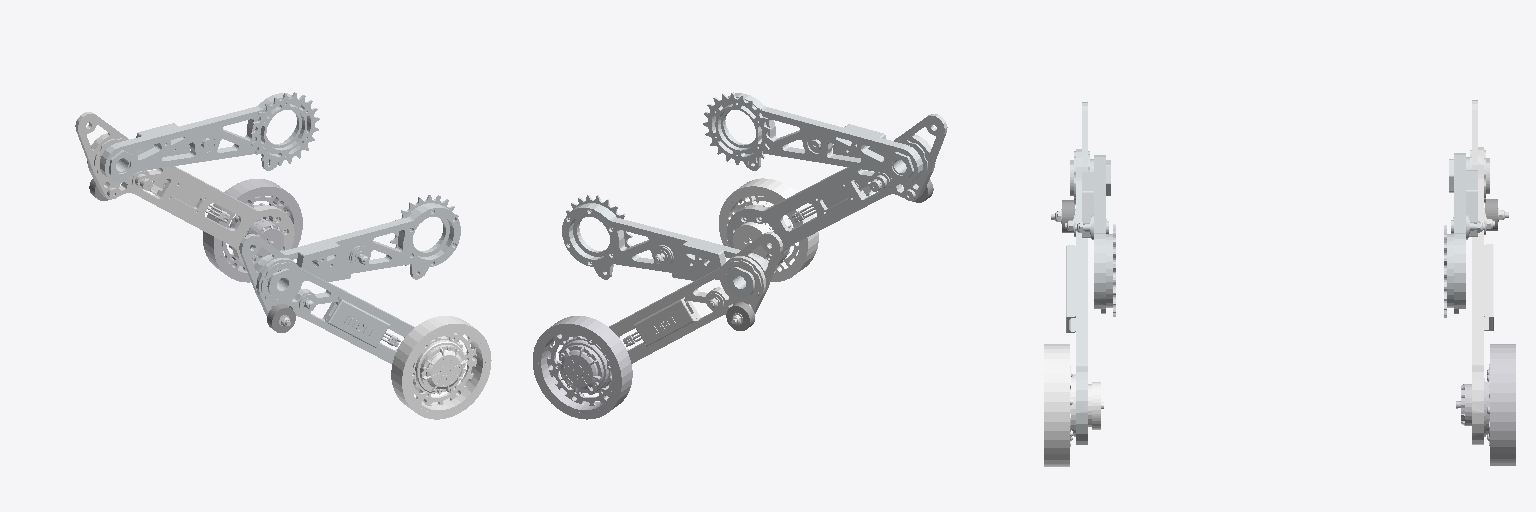
robot.urdf — wheelbipe25_v3_serial:
<?xml version="1.0" encoding="utf-8"?>
<!-- This URDF was automatically created by SolidWorks to URDF Exporter! Originally created by [author] ([email redacted]) 
     Commit Version: 1.6.0-4-g7f85cfe  Build Version: 1.6.7995.38578
     For more information, please see http://wiki.ros.org/sw_urdf_exporter -->
<robot
  name="wheelbipe25_v3_serial">
  <link
    name="base_link">
    <inertial>
      <origin
        xyz="0.0034036 0.0054441 0.026919"
        rpy="0 0 0" />
      <mass
        value="13.643" />
      <inertia
        ixx="0.017406"
        ixy="-3.2184E-05"
        ixz="9.9775E-05"
        iyy="0.023837"
        iyz="-3.6499E-05"
        izz="0.027425" />
    </inertial>
    <visual>
      <origin
        xyz="0 0 0"
        rpy="0 0 0" />
      <geometry>
        <mesh
          filename="../meshes/base_link.STL" />
      </geometry>
      <material
        name="meshes">
        <color
          rgba="0.89804 0.91765 0.92941 1" />
      </material>
    </visual>
    <collision>
      <origin
        xyz="0 0 0"
        rpy="0 0 0" />
      <geometry>
        <mesh
          filename="../meshes/base_link.STL" />
      </geometry>
    </collision>
  </link>
  <link
    name="right_rear1_link">
    <inertial>
      <origin
        xyz="-0.106332358569984 0.00449073612655324 0.000587428254207184"
        rpy="0 0 0" />
      <mass
        value="0.440861538976495" />
      <inertia
        ixx="0.00013606702501468"
        ixy="-1.8284202125824E-06"
        ixz="3.9850306052404E-05"
        iyy="0.00157904378159859"
        iyz="6.78386550844152E-07"
        izz="0.00146970958664005" />
    </inertial>
    <visual>
      <origin
        xyz="0 0 0"
        rpy="0 0 0" />
      <geometry>
        <mesh
          filename="../meshes/right_rear1_link.STL" />
      </geometry>
      <material
        name="meshes">
        <color
          rgba="0.898039215686275 0.917647058823529 0.929411764705882 1" />
      </material>
    </visual>
    <collision>
      <origin
        xyz="0 0 0"
        rpy="0 0 0" />
      <geometry>
        <mesh
          filename="../meshes/right_rear1_link.STL" />
      </geometry>
    </collision>
  </link>
  <joint
    name="right_rear1_joint"
    type="continuous">
    <origin
      xyz="0 -0.1815 0"
      rpy="0 0 0" />
    <parent
      link="base_link" />
    <child
      link="right_rear1_link" />
    <axis
      xyz="0 1 0" />
    <limit
      lower="-3.14"
      upper="3.14"
      effort="100"
      velocity="10.472" />
  </joint>
  <link
    name="right_rear2_link">
    <inertial>
      <origin
        xyz="0.066508391458269 0.00560212356936299 -0.0524670454642925"
        rpy="0 0 0" />
      <mass
        value="0.368980583372402" />
      <inertia
        ixx="0.000743510115183567"
        ixy="2.042352636913E-06"
        ixz="0.000873915415294323"
        iyy="0.00203748603022411"
        iyz="-2.27059882901144E-06"
        izz="0.00130960050813623" />
    </inertial>
    <visual>
      <origin
        xyz="0 0 0"
        rpy="0 0 0" />
      <geometry>
        <mesh
          filename="../meshes/right_rear2_link.STL" />
      </geometry>
      <material
        name="meshes">
        <color
          rgba="0.898039215686275 0.917647058823529 0.929411764705882 1" />
      </material>
    </visual>
    <collision>
      <origin
        xyz="0 0 0"
        rpy="0 0 0" />
      <geometry>
        <mesh
          filename="../meshes/right_rear2_link.STL" />
      </geometry>
    </collision>
  </link>
  <joint
    name="right_rear2_joint"
    type="continuous">
    <origin
      xyz="-0.215 -0.018 0"
      rpy="0 0 0" />
    <parent
      link="right_rear1_link" />
    <child
      link="right_rear2_link" />
    <axis
      xyz="0 1 0" />
    <limit
      lower="-0.05"
      upper="1.05"
      effort="100"
      velocity="10.472" />
  </joint>
  <link
    name="right_wheel_link">
    <inertial>
      <origin
        xyz="0.000103763358342947 -0.0128472471862931 -1.11657618750566E-05"
        rpy="0 0 0" />
      <mass
        value="0.30975471454974" />
      <inertia
        ixx="0.000310431420126189"
        ixy="-2.36933762728286E-07"
        ixz="-1.47747496489338E-07"
        iyy="0.00057172389890395"
        iyz="4.75962238533741E-08"
        izz="0.000309708769125021" />
    </inertial>
    <visual>
      <origin
        xyz="0 0 0"
        rpy="0 0 0" />
      <geometry>
        <mesh
          filename="../meshes/right_wheel_link.STL" />
      </geometry>
      <material
        name="meshes">
        <color
          rgba="1 1 1 1" />
      </material>
    </visual>
    <collision>
      <origin
        xyz="0 0 0"
        rpy="0 0 0" />
      <geometry>
        <mesh
          filename="../meshes/right_wheel_link.STL" />
      </geometry>
    </collision>
  </link>
  <joint
    name="right_wheel_joint"
    type="continuous">
    <origin
      xyz="0.20521 0 -0.14968"
      rpy="0 0 0" />
    <parent
      link="right_rear2_link" />
    <child
      link="right_wheel_link" />
    <axis
      xyz="0 1 0" />
    <limit
      effort="10"
      velocity="52.229" />
  </joint>
  <link
    name="right_guide_link">
    <inertial>
      <origin
        xyz="-3.7470027081099E-14 -0.00600000000000322 -3.04617442381527E-15"
        rpy="0 0 0" />
      <mass
        value="0.0125764237108507" />
      <inertia
        ixx="1.00611389686805E-06"
        ixy="-6.38296394211657E-21"
        ixz="-6.28359835949059E-24"
        iyy="1.71039362467569E-06"
        iyz="-1.46743087442761E-22"
        izz="1.00611389686805E-06" />
    </inertial>
    <visual>
      <origin
        xyz="0 0 0"
        rpy="0 0 0" />
      <geometry>
        <mesh
          filename="../meshes/right_guide_link.STL" />
      </geometry>
      <material
        name="">
        <color
          rgba="0.698039215686274 0.698039215686274 0.698039215686274 1" />
      </material>
    </visual>
    <collision>
      <origin
        xyz="0 0 0"
        rpy="0 0 0" />
      <geometry>
        <mesh
          filename="../meshes/right_guide_link.STL" />
      </geometry>
    </collision>
  </link>
  <joint
    name="right_guide_joint"
    type="continuous">
    <origin
      xyz="-0.0027114 -0.001 -0.042914"
      rpy="0 0 0" />
    <parent
      link="right_rear2_link" />
    <child
      link="right_guide_link" />
    <axis
      xyz="0 1 0" />
  </joint>
  <link
    name="left_rear1_link">
    <inertial>
      <origin
        xyz="-0.118948769058944 -0.00260857280121252 0.00163702474903421"
        rpy="0 0 0" />
      <mass
        value="0.503387901240631" />
      <inertia
        ixx="0.000147162398519791"
        ixy="1.83126777043379E-06"
        ixz="5.29091329257096E-05"
        iyy="0.0016093537379729"
        iyz="-7.00729956634731E-07"
        izz="0.00148939244123742" />
    </inertial>
    <visual>
      <origin
        xyz="0 0 0"
        rpy="0 0 0" />
      <geometry>
        <mesh
          filename="../meshes/left_rear1_link.STL" />
      </geometry>
      <material
        name="meshes">
        <color
          rgba="0.898039215686275 0.917647058823529 0.929411764705882 1" />
      </material>
    </visual>
    <collision>
      <origin
        xyz="0 0 0"
        rpy="0 0 0" />
      <geometry>
        <mesh
          filename="../meshes/left_rear1_link.STL" />
      </geometry>
    </collision>
  </link>
  <joint
    name="left_rear1_joint"
    type="continuous">
    <origin
      xyz="0 0.1815 0"
      rpy="0 0 0" />
    <parent
      link="base_link" />
    <child
      link="left_rear1_link" />
    <axis
      xyz="0 1 0" />
    <limit
      lower="-3.14"
      upper="3.14"
      effort="100"
      velocity="10.472" />
  </joint>
  <link
    name="left_rear2_link">
    <inertial>
      <origin
        xyz="0.0784434256851315 -0.00557737965492622 -0.0632978893850618"
        rpy="0 0 0" />
      <mass
        value="0.30901845038547" />
      <inertia
        ixx="0.000758358659747042"
        ixy="-2.05835508235229E-06"
        ixz="0.000881083293573335"
        iyy="0.00201539912780412"
        iyz="2.21626276459664E-06"
        izz="0.00127216692312921" />
    </inertial>
    <visual>
      <origin
        xyz="0 0 0"
        rpy="0 0 0" />
      <geometry>
        <mesh
          filename="../meshes/left_rear2_link.STL" />
      </geometry>
      <material
        name="meshes">
        <color
          rgba="0.929411764705882 0.929411764705882 0.929411764705882 1" />
      </material>
    </visual>
    <collision>
      <origin
        xyz="0 0 0"
        rpy="0 0 0" />
      <geometry>
        <mesh
          filename="../meshes/left_rear2_link.STL" />
      </geometry>
    </collision>
  </link>
  <joint
    name="left_rear2_joint"
    type="continuous">
    <origin
      xyz="-0.21499 0.018 0.0020187"
      rpy="0 0 0" />
    <parent
      link="left_rear1_link" />
    <child
      link="left_rear2_link" />
    <axis
      xyz="0 1 0" />
    <limit
      lower="-0.05"
      upper="1.05"
      effort="100"
      velocity="10.472" />
  </joint>
  <link
    name="left_wheel_link">
    <inertial>
      <origin
        xyz="4.22089942325645E-05 0.013500898311262 -9.75847674756086E-05"
        rpy="0 0 0" />
      <mass
        value="0.304045452893449" />
      <inertia
        ixx="0.000308747772784096"
        ixy="1.15710056365953E-07"
        ixz="-3.26407453728646E-07"
        iyy="0.000569584610601186"
        iyz="-2.12165501151311E-07"
        izz="0.000309175994808476" />
    </inertial>
    <visual>
      <origin
        xyz="0 0 0"
        rpy="0 0 0" />
      <geometry>
        <mesh
          filename="../meshes/left_wheel_link.STL" />
      </geometry>
      <material
        name="meshes">
        <color
          rgba="0.866666666666667 0.866666666666667 0.890196078431372 1" />
      </material>
    </visual>
    <collision>
      <origin
        xyz="0 0 0"
        rpy="0 0 0" />
      <geometry>
        <mesh
          filename="../meshes/left_wheel_link.STL" />
      </geometry>
    </collision>
  </link>
  <joint
    name="left_wheel_joint"
    type="continuous">
    <origin
      xyz="0.2038 0 -0.1516"
      rpy="0 0 0" />
    <parent
      link="left_rear2_link" />
    <child
      link="left_wheel_link" />
    <axis
      xyz="0 1 0" />
    <limit
      effort="10"
      velocity="52.229" />
  </joint>
  <link
    name="left_guide_link">
    <inertial>
      <origin
        xyz="2.77555756156289E-17 0.00600000000000001 0"
        rpy="0 0 0" />
      <mass
        value="0.0125764237108507" />
      <inertia
        ixx="1.00611389686805E-06"
        ixy="-2.9635542033011E-22"
        ixz="-1.19632248170503E-24"
        iyy="1.71039362467569E-06"
        iyz="7.89337250419196E-22"
        izz="1.00611389686805E-06" />
    </inertial>
    <visual>
      <origin
        xyz="0 0 0"
        rpy="0 0 0" />
      <geometry>
        <mesh
          filename="../meshes/left_guide_link.STL" />
      </geometry>
      <material
        name="">
        <color
          rgba="0.698039215686274 0.698039215686274 0.698039215686274 1" />
      </material>
    </visual>
    <collision>
      <origin
        xyz="0 0 0"
        rpy="0 0 0" />
      <geometry>
        <mesh
          filename="../meshes/left_guide_link.STL" />
      </geometry>
    </collision>
  </link>
  <joint
    name="left_guide_joint"
    type="continuous">
    <origin
      xyz="-0.0020275 0.00099999 -0.042952"
      rpy="0 0 0" />
    <parent
      link="left_rear2_link" />
    <child
      link="left_guide_link" />
    <axis
      xyz="0 1 0" />
  </joint>
</robot>

--- Render facts (derived) ---
Views: 3 orthographic renders of the robot side by side, from view 1: azimuth 30°, elevation 25°; view 2: azimuth 150°, elevation 25°; view 3: azimuth 270°, elevation 25°.
Model wheelbipe25_v3_serial with 9 links and 8 joints (8 continuous), rooted at base_link, posed all joints at 0.
Visible links, largest first — view 1: left_rear1_link, right_wheel_link, left_rear2_link, right_rear1_link, right_rear2_link, left_wheel_link, right_guide_link; view 2: right_rear1_link, left_rear1_link, left_wheel_link, right_rear2_link, left_rear2_link, right_wheel_link, left_guide_link; view 3: right_rear2_link, left_rear2_link, right_wheel_link, left_wheel_link, left_rear1_link, right_rear1_link.
Link boxes in pixels (left/top/right/bottom): left_rear1_link: left=99, top=92, right=319, bottom=181; right_wheel_link: left=391, top=316, right=491, bottom=419; left_rear2_link: left=75, top=112, right=294, bottom=265; right_rear1_link: left=254, top=195, right=460, bottom=298; right_rear2_link: left=239, top=234, right=459, bottom=391; left_wheel_link: left=203, top=179, right=302, bottom=282; right_guide_link: left=267, top=304, right=295, bottom=332; right_rear1_link: left=703, top=92, right=922, bottom=183; left_rear1_link: left=562, top=195, right=767, bottom=297; left_wheel_link: left=533, top=316, right=632, bottom=419; right_rear2_link: left=727, top=114, right=947, bottom=264; left_rear2_link: left=562, top=232, right=782, bottom=392; right_wheel_link: left=719, top=178, right=818, bottom=281; left_guide_link: left=726, top=302, right=754, bottom=330; right_rear2_link: left=1051, top=102, right=1106, bottom=444; left_rear2_link: left=1453, top=100, right=1508, bottom=444; right_wheel_link: left=1044, top=344, right=1103, bottom=466; left_wheel_link: left=1456, top=344, right=1515, bottom=465; left_rear1_link: left=1444, top=153, right=1489, bottom=317; right_rear1_link: left=1070, top=155, right=1115, bottom=316.
Bounding box of the posed robot: 0.383 × 0.4601 × 0.2992 m (x, y, z).
Meshes: 9 distinct files referenced, 8 mesh visuals loaded (8 binary STL); not drawn: 1 (reference not matched to a file when rendering).
